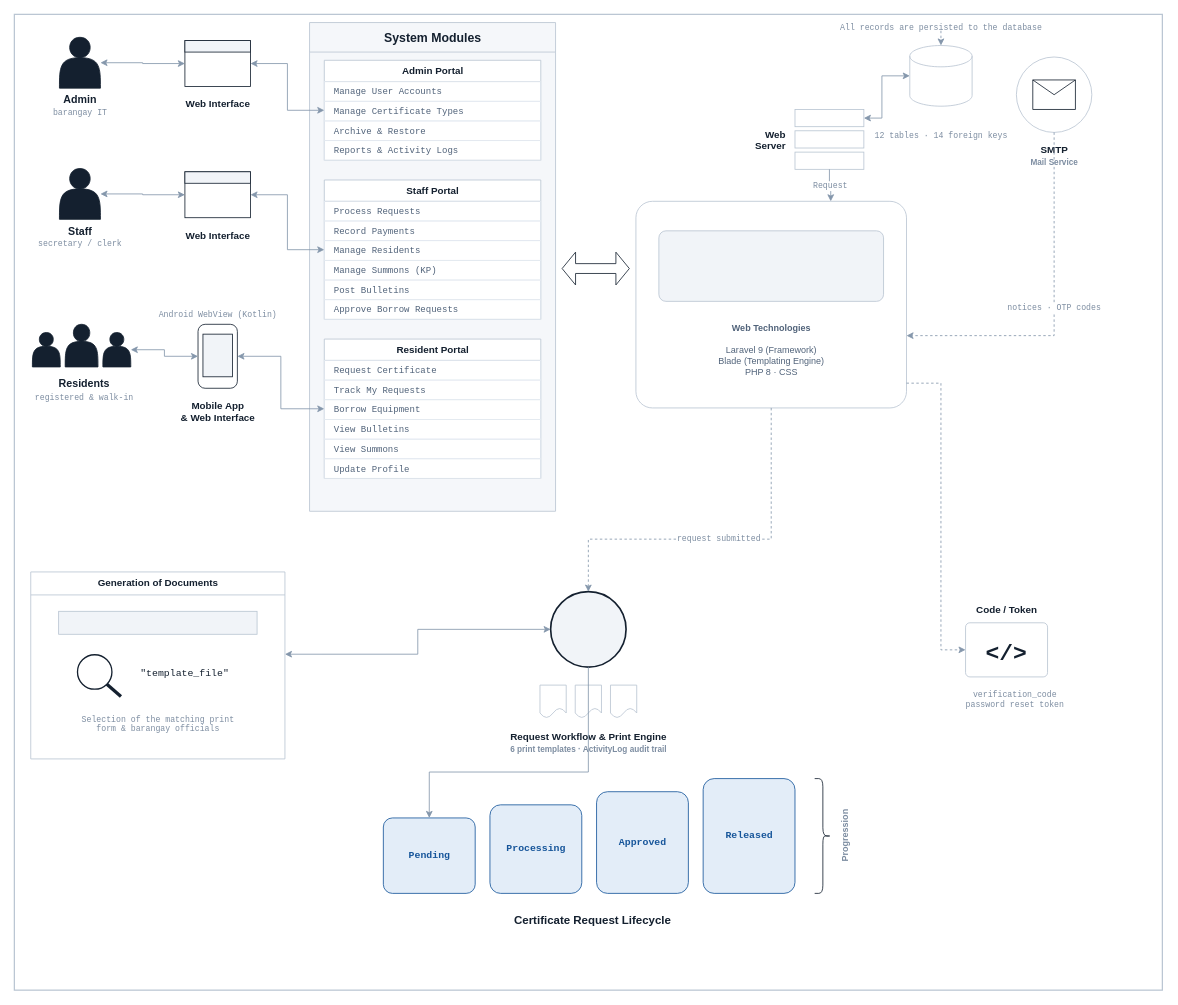
This 1178x1005 diagram has some shape labels left out. The shapes that lost their labels are listed below. From the top down, each one's centre as x and y in pixels, then its label:
(x=940, y=75): MySQL
(x=771, y=265): Barangay Pili Clearance & Records Management System
(x=157, y=622): Certificate request approved
(x=587, y=628): FLOW
